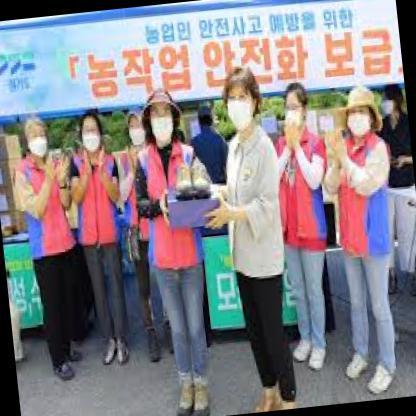safety-shoe: (168, 375, 198, 415), (190, 376, 219, 415), (254, 382, 287, 410)
